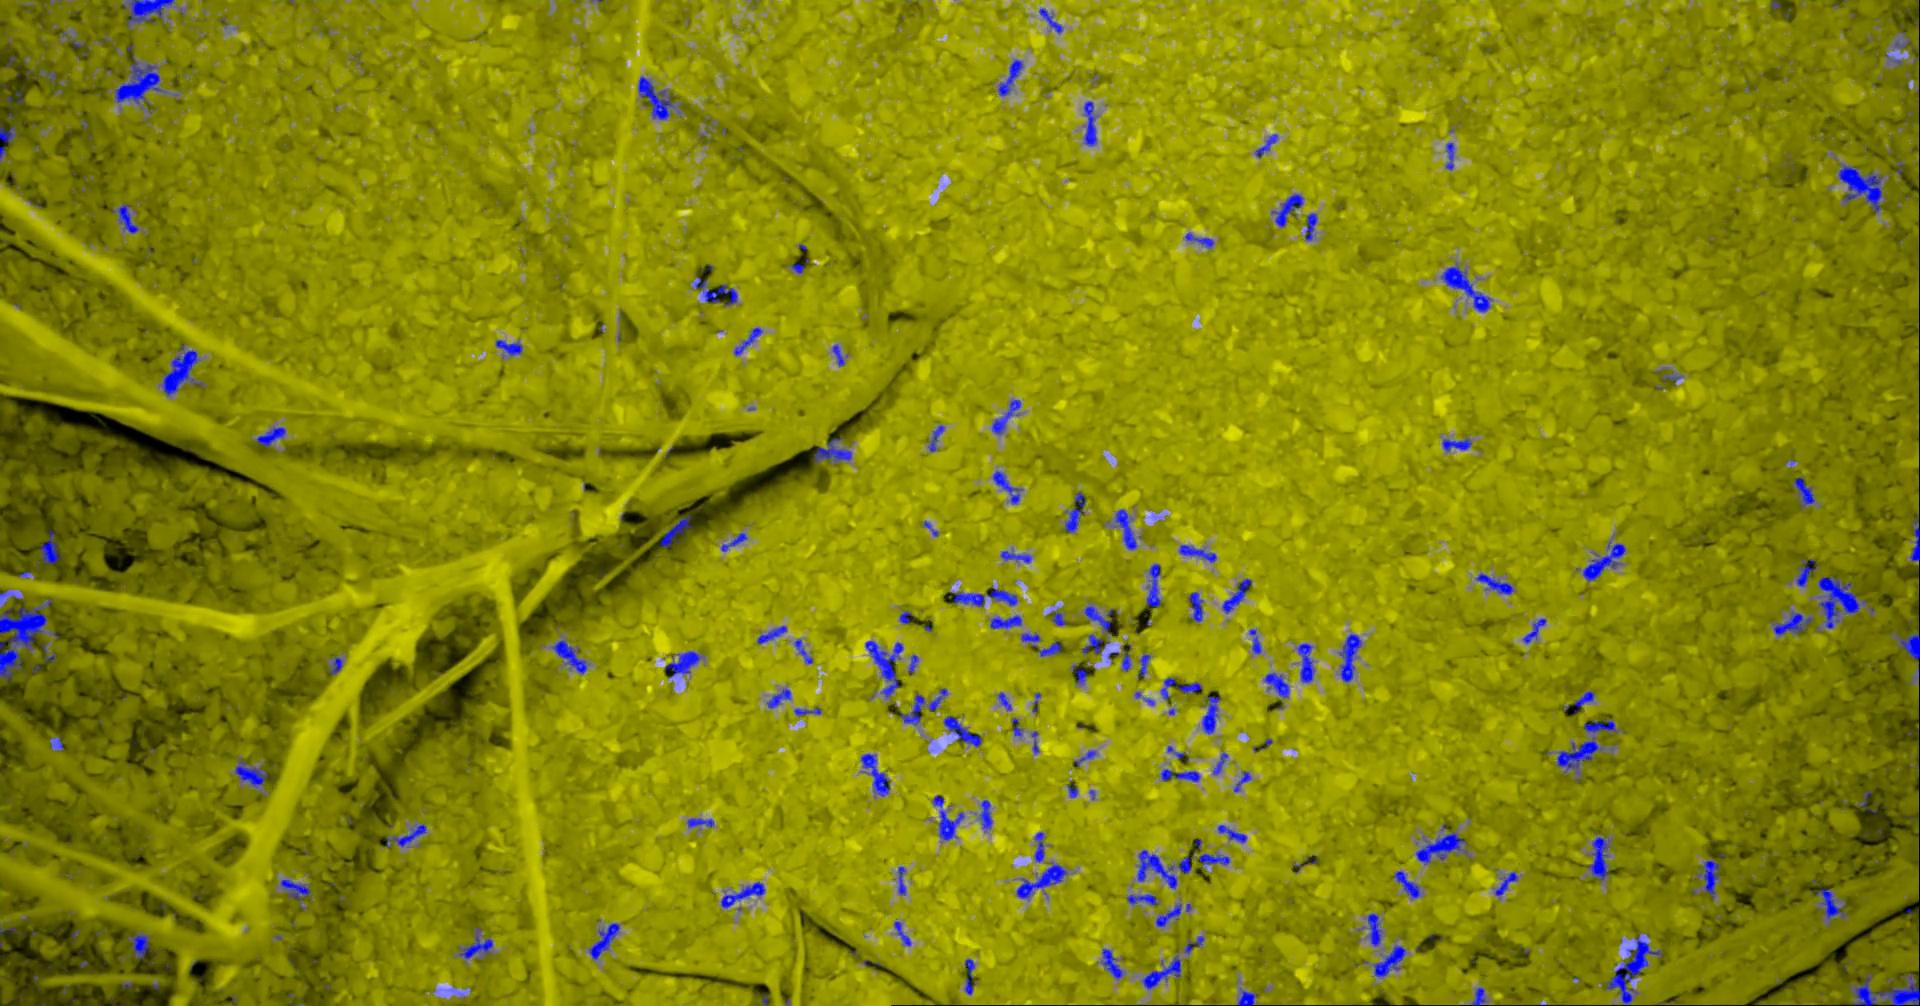ant: (116, 55, 169, 103), (1443, 263, 1493, 312), (866, 640, 905, 697), (163, 344, 204, 396), (1138, 848, 1192, 888), (1840, 164, 1884, 212), (1017, 862, 1069, 899), (1583, 540, 1627, 580), (1417, 831, 1469, 864), (639, 75, 677, 119), (1558, 737, 1604, 774), (935, 794, 966, 840), (951, 586, 1018, 606), (1812, 883, 1849, 920), (124, 0, 177, 25), (696, 276, 739, 306), (1898, 615, 1920, 676), (1143, 955, 1182, 988), (552, 639, 589, 673), (862, 753, 891, 796), (723, 882, 767, 908), (1338, 633, 1363, 681), (945, 715, 983, 746), (1272, 193, 1305, 227), (1589, 831, 1611, 880), (590, 922, 621, 959), (1223, 578, 1253, 614), (662, 514, 693, 547), (1375, 944, 1407, 977), (460, 927, 494, 958), (993, 399, 1022, 434), (37, 528, 62, 569), (815, 437, 853, 464), (1773, 611, 1815, 635), (994, 470, 1023, 504), (665, 650, 702, 677), (387, 823, 428, 847), (1086, 605, 1119, 634), (236, 758, 269, 788), (999, 58, 1025, 95), (282, 879, 312, 909), (1, 121, 23, 163), (1065, 492, 1087, 532), (1477, 572, 1515, 594), (1157, 902, 1192, 926), (1116, 509, 1138, 549), (1699, 860, 1721, 898), (735, 326, 764, 354), (1910, 699, 1920, 776), (902, 694, 926, 725), (1102, 948, 1126, 979), (113, 205, 140, 232), (1396, 870, 1422, 898), (1203, 695, 1222, 733), (1794, 476, 1816, 509), (1566, 690, 1596, 713), (1180, 544, 1218, 561), (257, 426, 287, 447), (1299, 643, 1316, 682), (1148, 563, 1162, 607), (1040, 8, 1064, 33), (1266, 672, 1290, 697), (1084, 102, 1098, 145), (758, 625, 789, 644), (130, 932, 152, 958), (1524, 619, 1547, 643), (1496, 871, 1519, 895), (1798, 559, 1818, 586), (1083, 634, 1110, 654), (1257, 133, 1279, 158), (1219, 824, 1248, 842), (723, 532, 749, 551), (1911, 809, 1920, 866), (1162, 768, 1201, 781), (795, 638, 814, 663), (1190, 591, 1205, 621), (990, 614, 1023, 627), (980, 799, 994, 832), (768, 688, 792, 708), (1186, 232, 1215, 248), (1001, 549, 1032, 563), (1369, 913, 1383, 945), (930, 424, 946, 451), (1585, 719, 1619, 732), (931, 687, 949, 711), (497, 339, 524, 354), (1443, 437, 1473, 451), (1200, 854, 1230, 868), (895, 921, 912, 945), (966, 958, 977, 995), (1305, 213, 1319, 240), (1250, 627, 1263, 654), (1912, 513, 1920, 561), (1186, 935, 1205, 954), (1076, 749, 1097, 766), (1162, 677, 1177, 700), (1035, 831, 1046, 861), (1239, 987, 1258, 1005), (1039, 641, 1063, 655), (1236, 771, 1252, 791), (1214, 752, 1229, 774), (1128, 894, 1159, 904), (1139, 654, 1152, 678), (1178, 681, 1203, 694), (1022, 633, 1043, 647), (1074, 664, 1088, 685), (330, 655, 344, 674), (834, 343, 846, 366), (690, 817, 715, 827), (1123, 643, 1131, 671), (43, 643, 57, 661), (999, 692, 1013, 710), (795, 708, 823, 716), (1473, 987, 1487, 1005), (1448, 142, 1457, 169), (899, 865, 907, 895), (1051, 611, 1068, 625), (50, 735, 65, 749), (909, 654, 919, 673), (1013, 718, 1023, 735), (791, 262, 806, 273), (902, 610, 913, 622), (1069, 782, 1079, 796)
